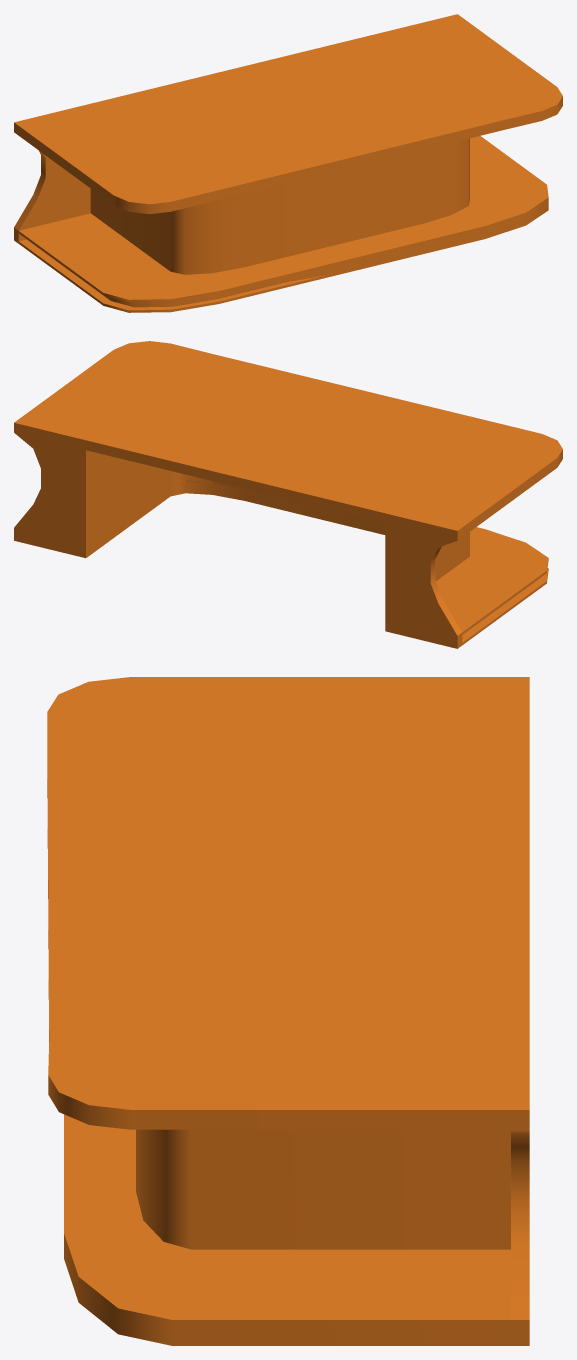
The model's file is InfoDesk_mesh 1.fbx.
3 views of the same model, one above another, from view 1: azimuth 30°, elevation 25°; view 2: azimuth 150°, elevation 25°; view 3: azimuth 270°, elevation 25° (orthographic). The views are drawn at different scales.
Visible parts, largest first — view 1: InfoDesk_mesh; view 2: InfoDesk_mesh; view 3: InfoDesk_mesh.
Boxes of the visible parts, <box> form: InfoDesk_mesh: <box>14,14,562,312</box>; InfoDesk_mesh: <box>14,341,562,648</box>; InfoDesk_mesh: <box>47,677,529,1345</box>.
Size of the model in its own units: 5419 by 1378 by 2552.
